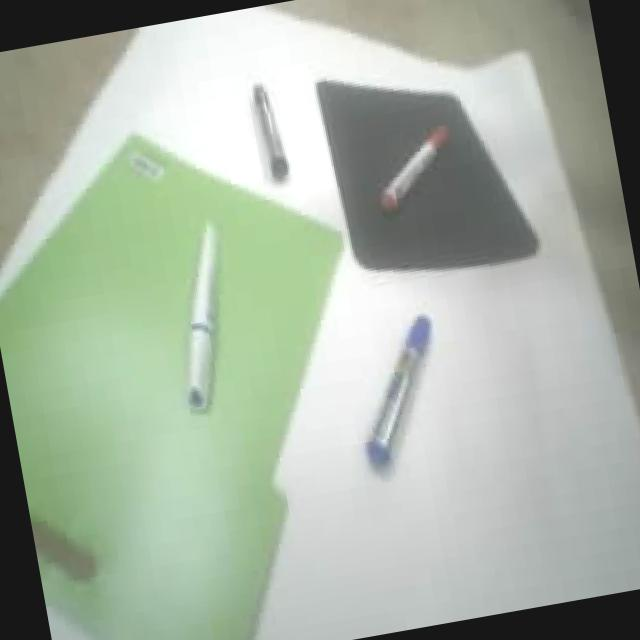board-marker: (366, 315, 429, 466), (378, 125, 448, 210), (251, 82, 287, 179)
